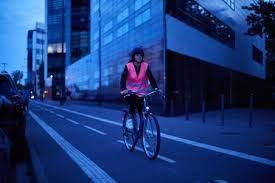Vest: (126, 62, 150, 95)
